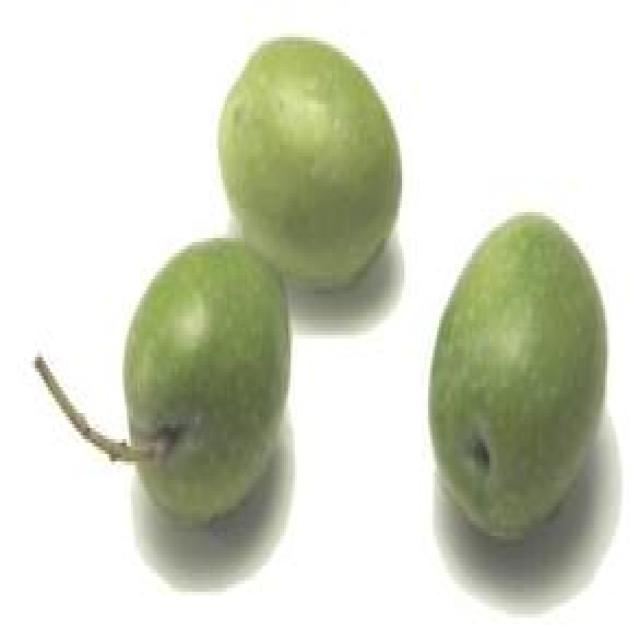olive: (92, 11, 609, 566)
